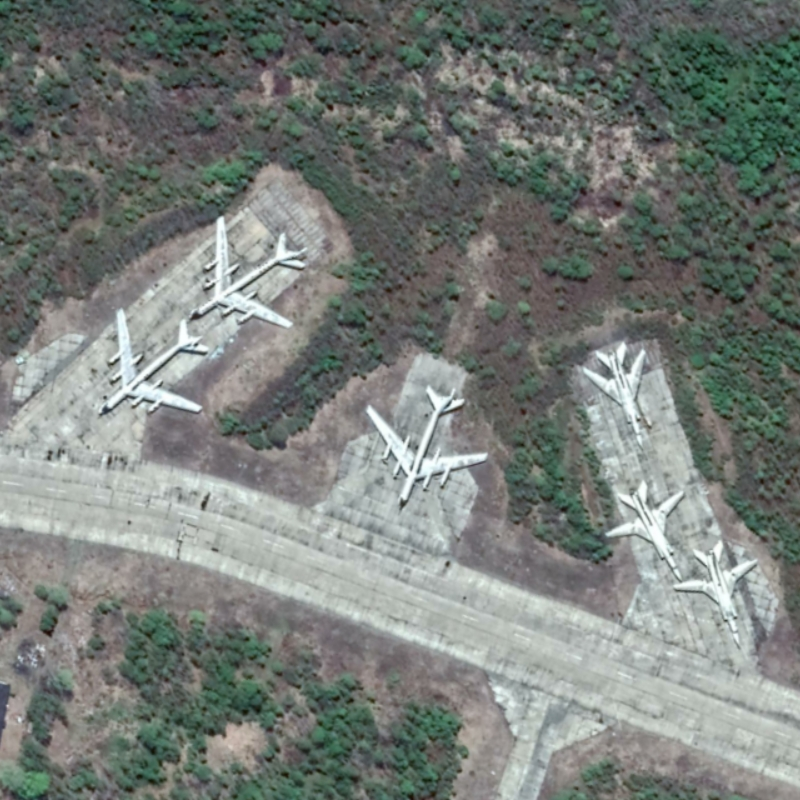A12: (669, 536, 762, 654), (602, 477, 687, 585), (579, 339, 651, 456)
A17: (360, 382, 491, 510), (184, 211, 310, 331), (93, 305, 206, 422)
